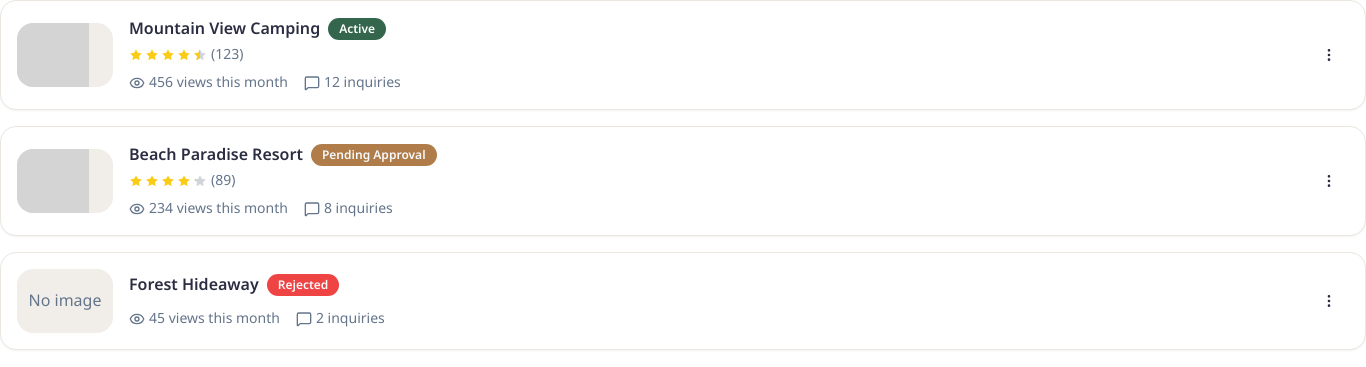
Test case: CampsiteTable › Icons and Visual Elements › renders trash icon for delete button
What coordinates should you click on to do the following:
click the button without text in the row of "Active"
I would click on:
 (1329, 55)
Its box is x1=1309 y1=35 x2=1349 y2=75.
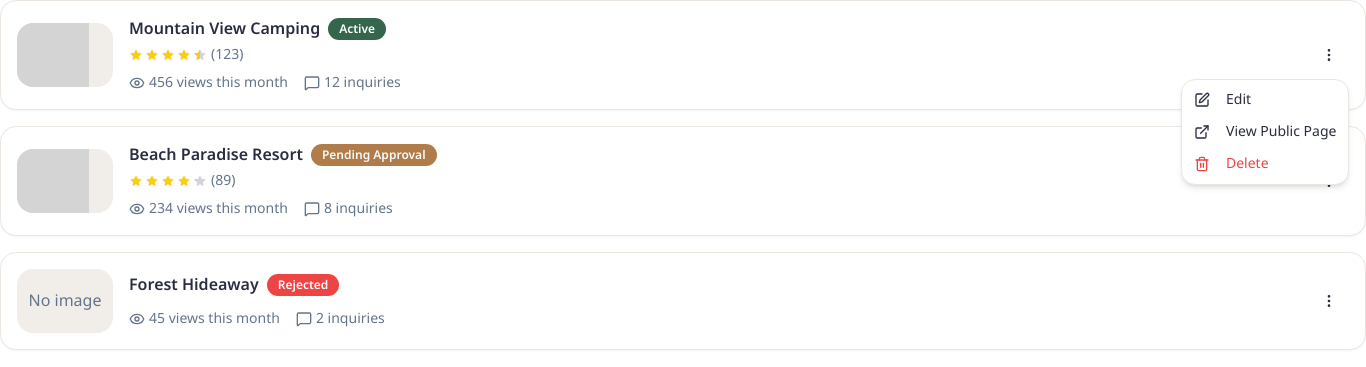
Check: the menu item "Delete" is shown, box x1=1194 y1=153 x2=1269 y2=174
